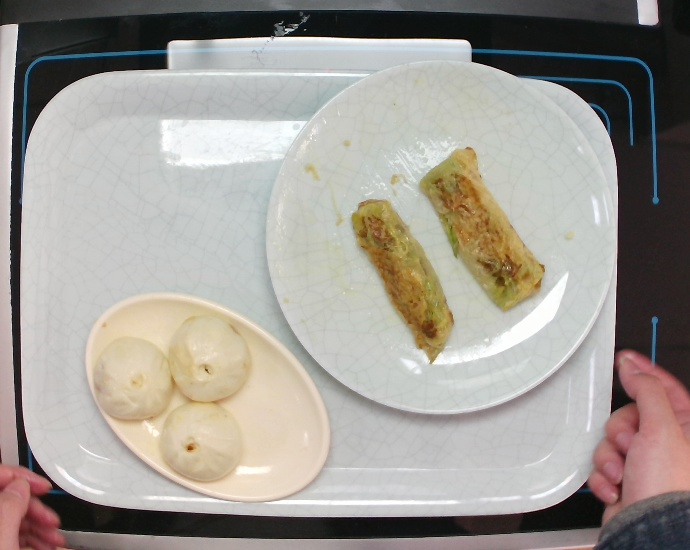JYsf-Da_Yuan_Pan: (261, 61, 612, 419)
JYsf-Tuo_Yuan_Wan: (79, 288, 333, 505)
